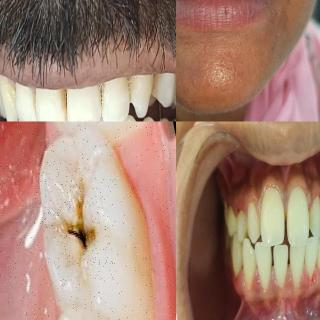Gum Swelling: (230, 264, 246, 294), (308, 264, 320, 294)
cavities: (36, 151, 102, 283)
maligned: (241, 240, 258, 290), (305, 195, 320, 234), (312, 232, 320, 278)
stains: (53, 73, 73, 121)
